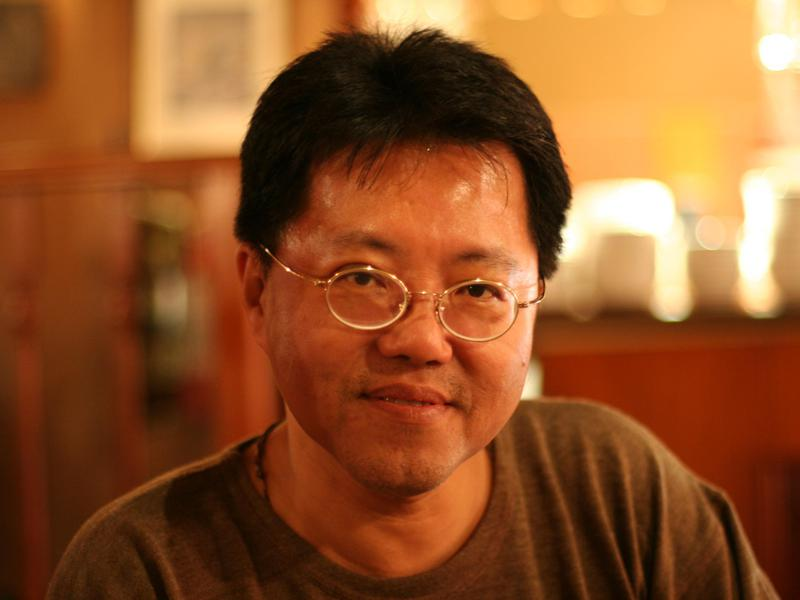person: (61, 33, 781, 600)
